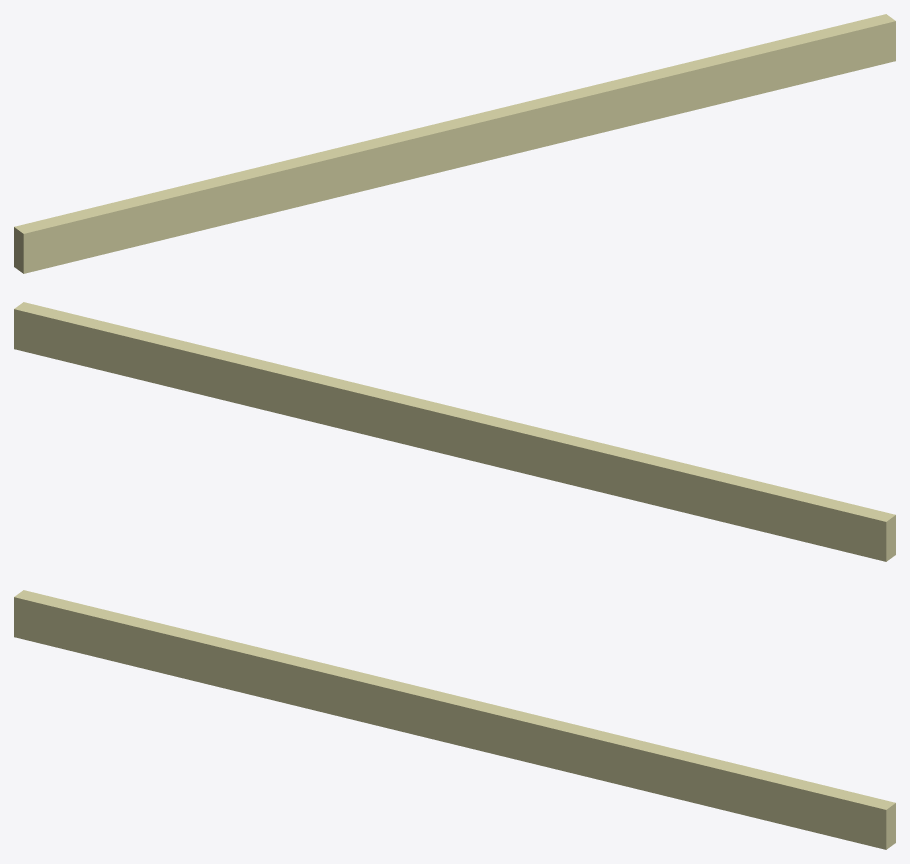
The model's file is tool_6-Group_111.gltf.
3 views of the same model, one above another, from view 1: azimuth 30°, elevation 25°; view 2: azimuth 150°, elevation 25°; view 3: azimuth 330°, elevation 25° (orthographic).
Parts seen in each view (by area): view 1: <组件#37>_142, <组件#37>_138, <组件#37>_148, <组件#37>_149, <组件#37>_145, <组件#37>_144, <组件#37>_134, <组件#37>_137, <组件#37>_139, <组件#37>_140, <组件#37>_143, <组件#37>_147 (+7 smaller); view 2: <组件#37>_142, <组件#37>_138, <组件#37>_148, <组件#37>_149, <组件#37>_145, <组件#37>_144, <组件#37>_134, <组件#37>_137, <组件#37>_139, <组件#37>_140, <组件#37>_143, <组件#37>_147 (+7 smaller); view 3: <组件#37>_142, <组件#37>_138, <组件#37>_148, <组件#37>_149, <组件#37>_145, <组件#37>_144, <组件#37>_134, <组件#37>_137, <组件#37>_139, <组件#37>_140, <组件#37>_143, <组件#37>_147 (+7 smaller).
Part boxes in pixels (<box>): <组件#37>_142: <box>14,14,895,235</box>; <组件#37>_138: <box>14,44,895,258</box>; <组件#37>_148: <box>14,50,895,265</box>; <组件#37>_149: <box>14,38,895,252</box>; <组件#37>_145: <box>14,31,895,246</box>; <组件#37>_144: <box>14,57,895,271</box>; <组件#37>_134: <box>14,48,895,263</box>; <组件#37>_137: <box>14,27,895,242</box>; <组件#37>_139: <box>14,34,895,248</box>; <组件#37>_140: <box>14,23,895,237</box>; <组件#37>_143: <box>14,25,895,239</box>; <组件#37>_147: <box>14,55,895,269</box>; <组件#37>_142: <box>14,302,895,523</box>; <组件#37>_138: <box>14,332,895,546</box>; <组件#37>_148: <box>14,338,895,553</box>; <组件#37>_149: <box>14,326,895,540</box>; <组件#37>_145: <box>14,319,895,534</box>; <组件#37>_144: <box>14,345,895,559</box>; <组件#37>_134: <box>14,336,895,551</box>; <组件#37>_137: <box>14,315,895,530</box>; <组件#37>_139: <box>14,322,895,536</box>; <组件#37>_140: <box>14,311,895,525</box>; <组件#37>_143: <box>14,313,895,527</box>; <组件#37>_147: <box>14,343,895,557</box>; <组件#37>_142: <box>14,590,895,811</box>; <组件#37>_138: <box>14,620,895,834</box>; <组件#37>_148: <box>14,626,895,841</box>; <组件#37>_149: <box>14,614,895,828</box>; <组件#37>_145: <box>14,607,895,822</box>; <组件#37>_144: <box>14,633,895,847</box>; <组件#37>_134: <box>14,624,895,839</box>; <组件#37>_137: <box>14,603,895,818</box>; <组件#37>_139: <box>14,610,895,824</box>; <组件#37>_140: <box>14,599,895,813</box>; <组件#37>_143: <box>14,601,895,815</box>; <组件#37>_147: <box>14,631,895,845</box>.
Size of the model in its own units: 102 by 4.49 by 1.97.
